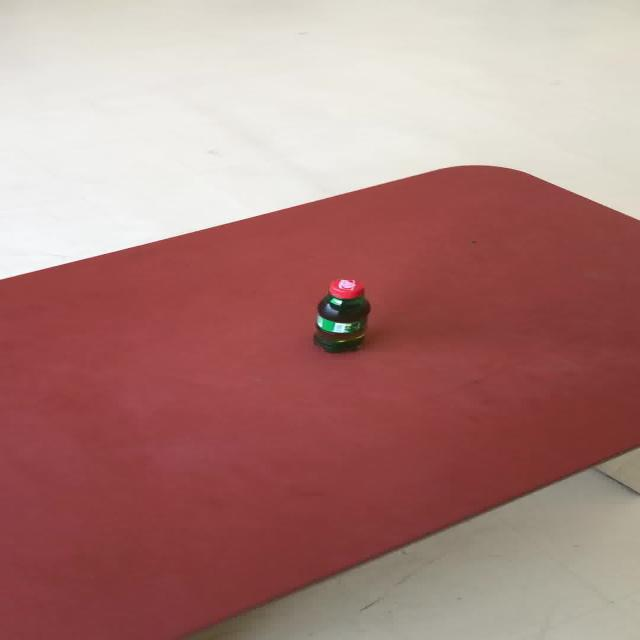guarana: (310, 278, 370, 352)
